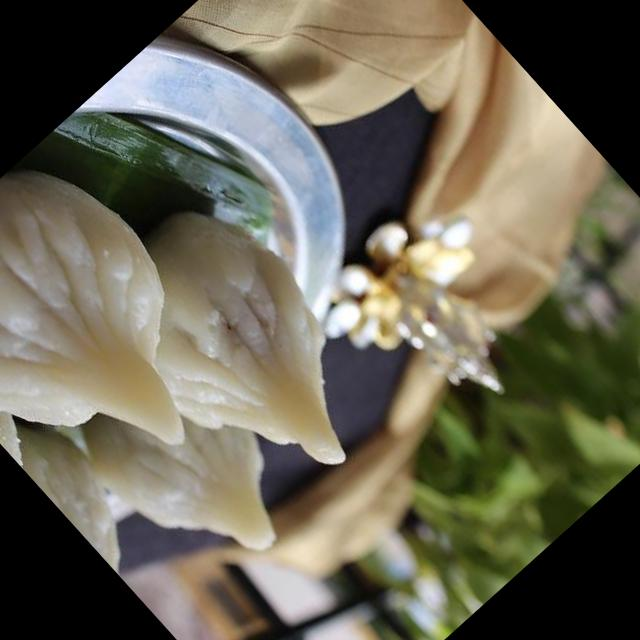modak: (0, 126, 334, 599)
